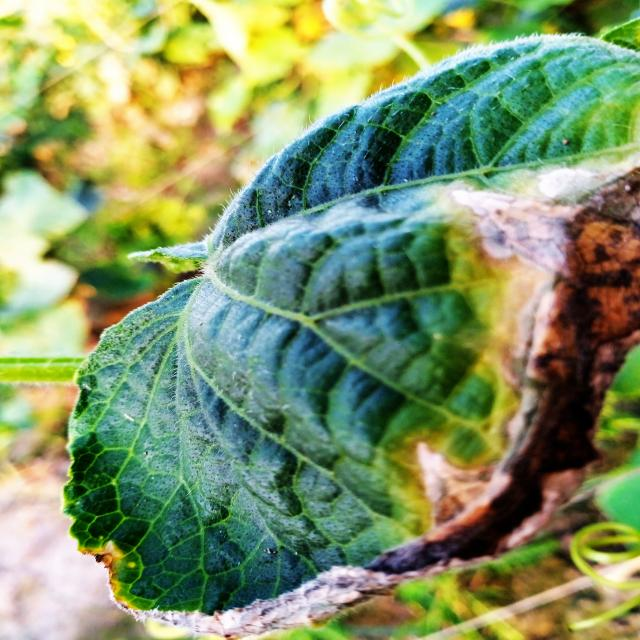Gummy-Stem-Blight: (82, 160, 640, 638)
